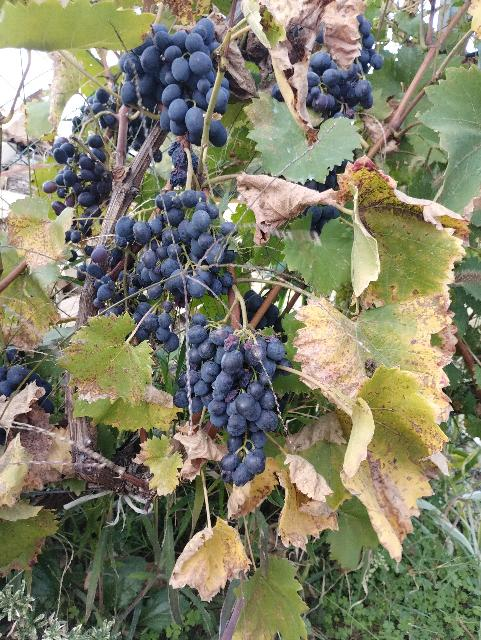grapes: (115, 189, 238, 301), (202, 335, 286, 486), (174, 312, 232, 412)
